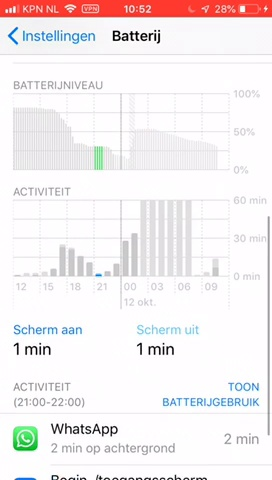activity: (5, 378, 93, 411)
app: (11, 419, 264, 462)
